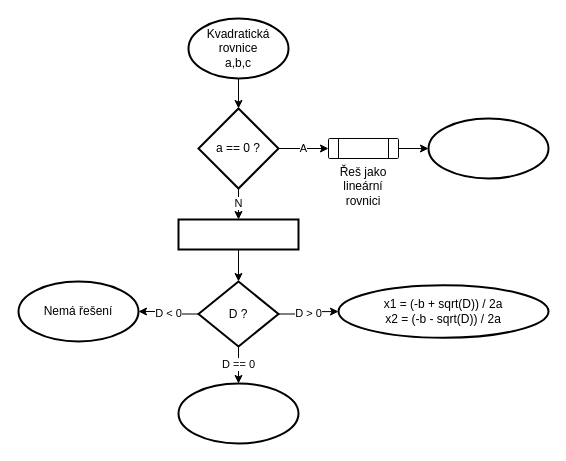
This 566x461 diagram has some shape labels left out. The shapes that lost their labels are listed below. From the top down, each one's centre as x and y in pixels, then its label:
At (x=488, y=148): "Řešení lineární rovnice".
At (x=238, y=234): "D = b^2 - 4*a*c".
At (x=238, y=413): "x = -b / (2*a)".
